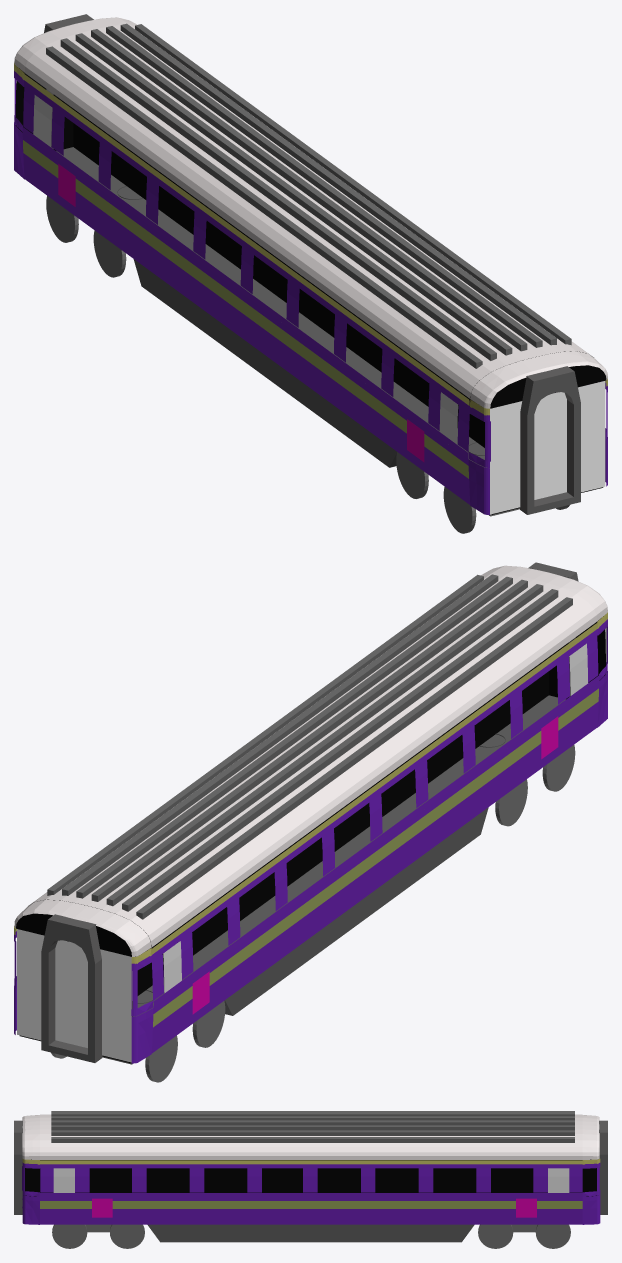
The model's file is br-mk3-fo-fgw2.dae.
3 renders of one model, top to bottom at view 1: azimuth 30°, elevation 25°; view 2: azimuth 150°, elevation 25°; view 3: azimuth 270°, elevation 25°, orthographic. The views are drawn at different scales.
Parts seen in each view (by area): view 1: Suzanne_001, Plane_007, Plane_001, Plane_111, Cube_010, Cube, Cube_011, Cube_008, Cube_009, Cube_004, Plane_002, Cube_002 (+15 smaller); view 2: Suzanne_001, Plane_007, Plane_100, Plane_111, Cube, Cube_010, Cube_011, Cube_008, Cube_009, Cube_004, Plane_002, Cube_002 (+15 smaller); view 3: Plane_134, Suzanne_001, Plane_111, Cube, Cube_002, Cube_003, Cube_004, Cube_008, Plane_135, Plane_136, Cube_009, Cube_010 (+30 smaller).
Part boxes in pixels (x1,y1,x2,y2): Suzanne_001: (24, 24, 593, 398); Plane_007: (23, 140, 470, 504); Plane_001: (490, 381, 605, 514); Plane_111: (73, 109, 484, 447); Cube_010: (60, 38, 496, 360); Cube: (133, 259, 396, 467); Cube_011: (46, 46, 482, 368); Cube_008: (91, 29, 527, 351); Cube_009: (75, 33, 512, 355); Cube_004: (106, 26, 542, 347); Plane_002: (56, 147, 489, 468); Cube_002: (120, 23, 556, 345); Suzanne_001: (28, 573, 596, 947); Plane_007: (151, 688, 598, 1053); Plane_100: (17, 929, 132, 1062); Plane_111: (135, 657, 548, 995); Cube: (224, 807, 488, 1015); Cube_010: (122, 589, 558, 911); Cube_011: (136, 597, 572, 919); Cube_008: (91, 579, 527, 901); Cube_009: (106, 584, 543, 906); Cube_004: (76, 576, 512, 898); Plane_002: (133, 695, 565, 1016); Cube_002: (62, 574, 498, 895); Plane_134: (40, 1201, 582, 1224); Suzanne_001: (40, 1114, 582, 1159); Plane_111: (25, 1159, 596, 1196); Cube: (147, 1224, 474, 1242); Cube_002: (51, 1130, 574, 1135); Cube_003: (51, 1137, 574, 1142); Cube_004: (51, 1125, 574, 1130); Cube_008: (51, 1120, 574, 1125); Plane_135: (40, 1160, 584, 1164); Plane_136: (40, 1164, 582, 1168); Cube_009: (51, 1116, 574, 1120); Cube_010: (51, 1112, 574, 1116).
Bounding box in the file's own units: 2.1 × 13.39 × 2.81.
